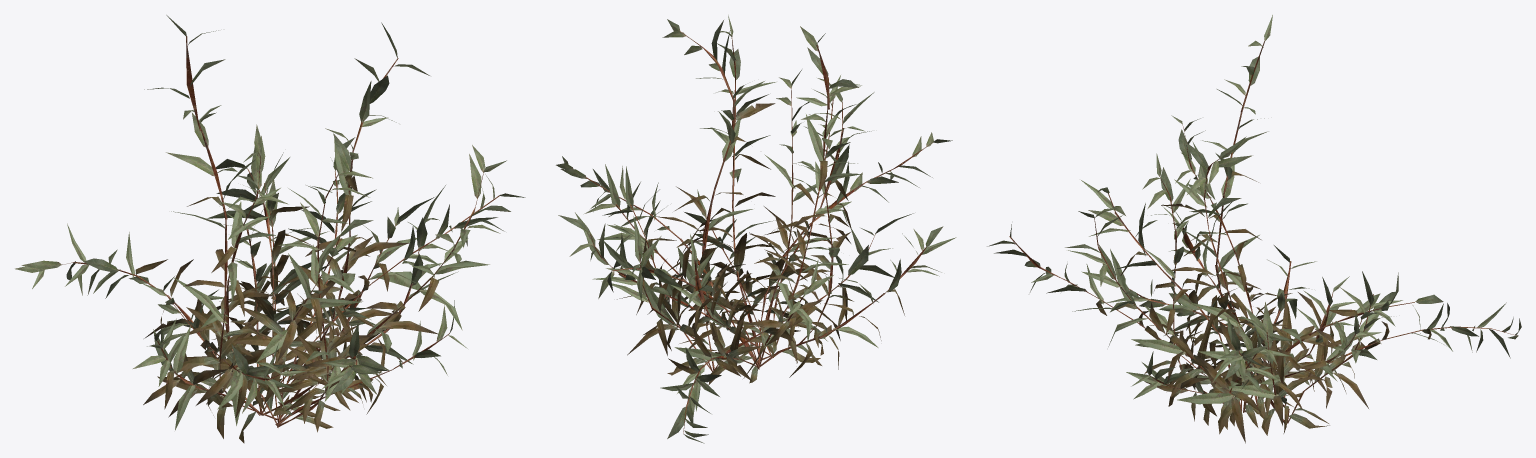
File: ph_coastal_shrub.glb
The picture shows the model from 3 angles, left to right: view 1: azimuth 30°, elevation 25°; view 2: azimuth 150°, elevation 25°; view 3: azimuth 270°, elevation 25°; orthographic projection. The views are drawn at different scales.
Visible parts, largest first — view 1: shrub_02_a, shrub_02_c, shrub_02_b, shrub_02_d; view 2: shrub_02_c, shrub_02_a, shrub_02_b, shrub_02_d; view 3: shrub_02_a, shrub_02_b, shrub_02_c, shrub_02_d.
Part boxes in pixels (<box>): shrub_02_a: <box>144,15,510,443</box>; shrub_02_c: <box>15,124,525,438</box>; shrub_02_b: <box>187,22,434,425</box>; shrub_02_d: <box>141,137,467,432</box>; shrub_02_c: <box>556,78,956,443</box>; shrub_02_a: <box>584,15,874,362</box>; shrub_02_b: <box>601,19,913,378</box>; shrub_02_d: <box>558,70,835,363</box>; shrub_02_a: <box>1065,15,1443,443</box>; shrub_02_b: <box>1105,136,1402,435</box>; shrub_02_c: <box>987,115,1521,426</box>; shrub_02_d: <box>1126,153,1381,425</box>.
Size of the model in its own units: 1.77 by 1.69 by 2.28.
1 material, 1 textured.
